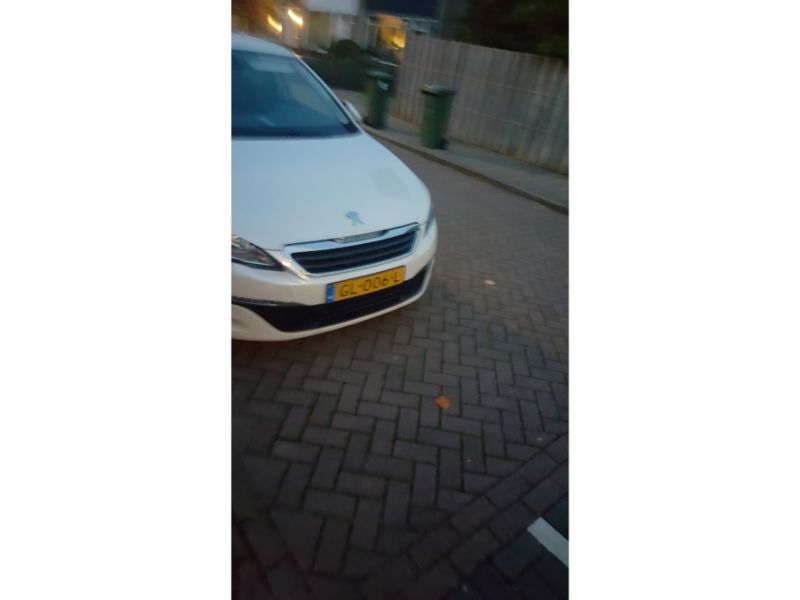kenteken: (327, 266, 410, 306)
